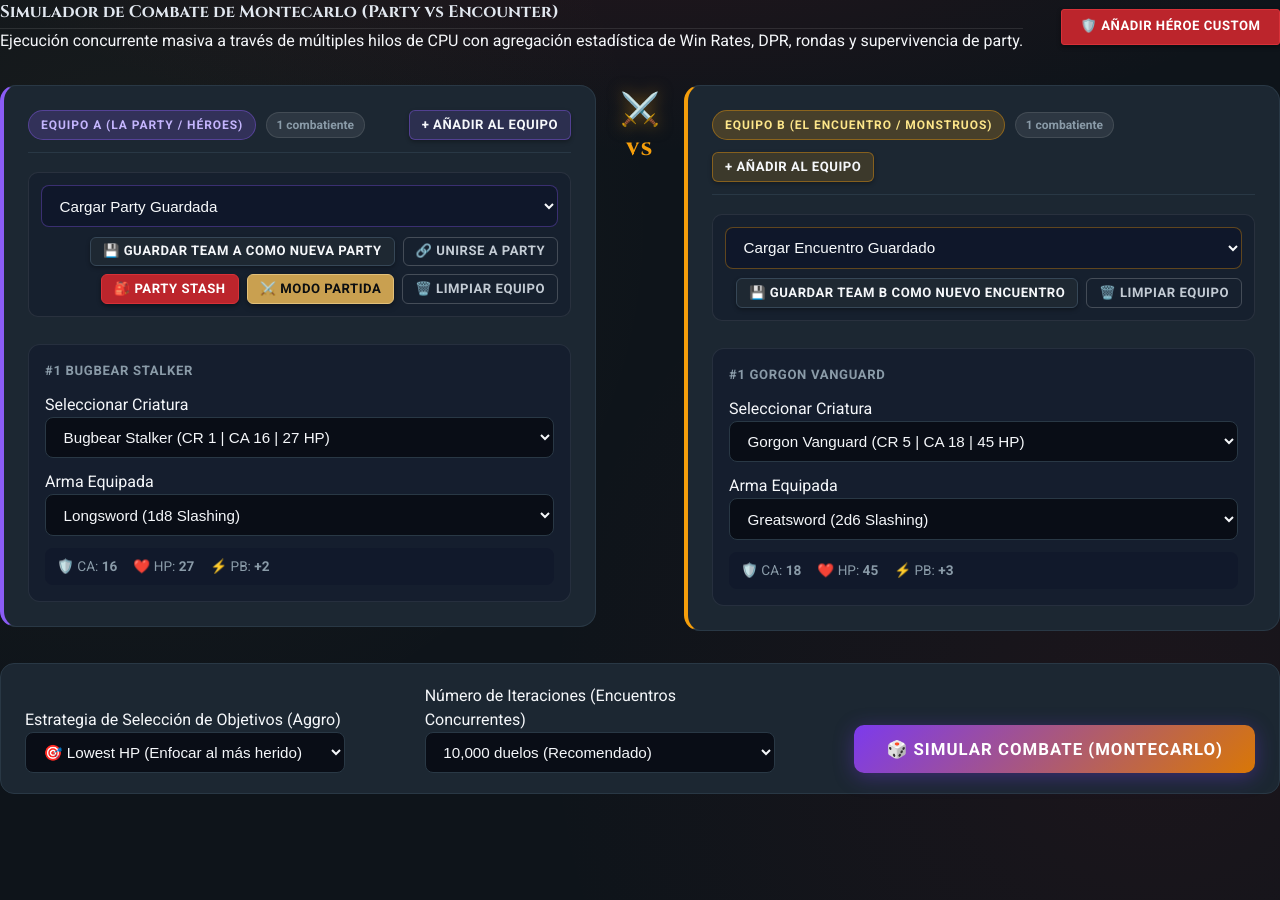
Scenario: CombatSimulatorView Component Suite (Party vs Encounter) › opens save party modal and creates a party with current Team A members
The image size is (1280, 900).
Click the button with id "save-party-btn".
click(242, 251)  # box [90,236,395,266]
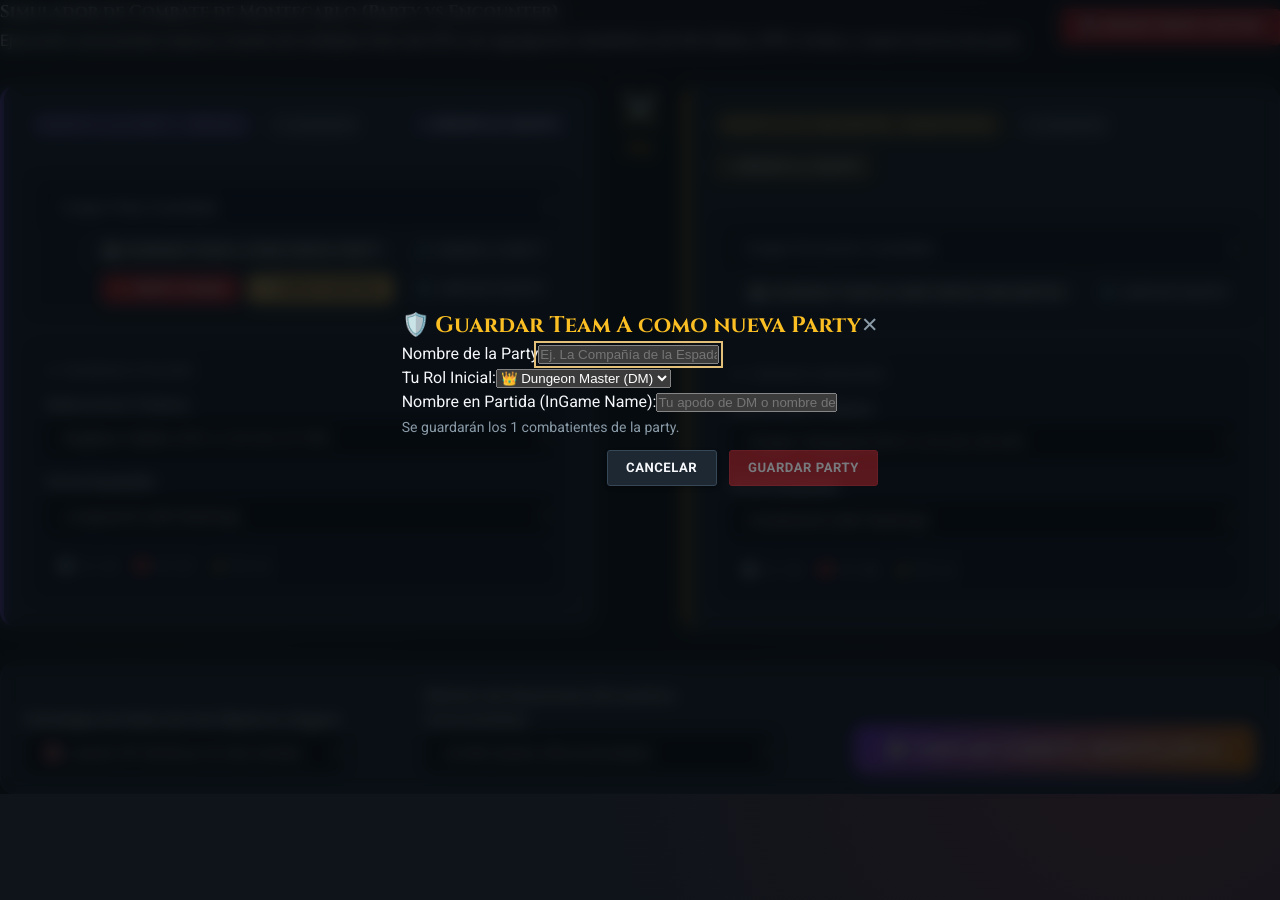
Expected: the dialog with id "save-party-modal" is shown
Type "Nuevos Conquistadores" into the field labelled "Nombre de la Party".
click(629, 355); type("Nuevos Conquistadores")  # box [538,345,719,364]
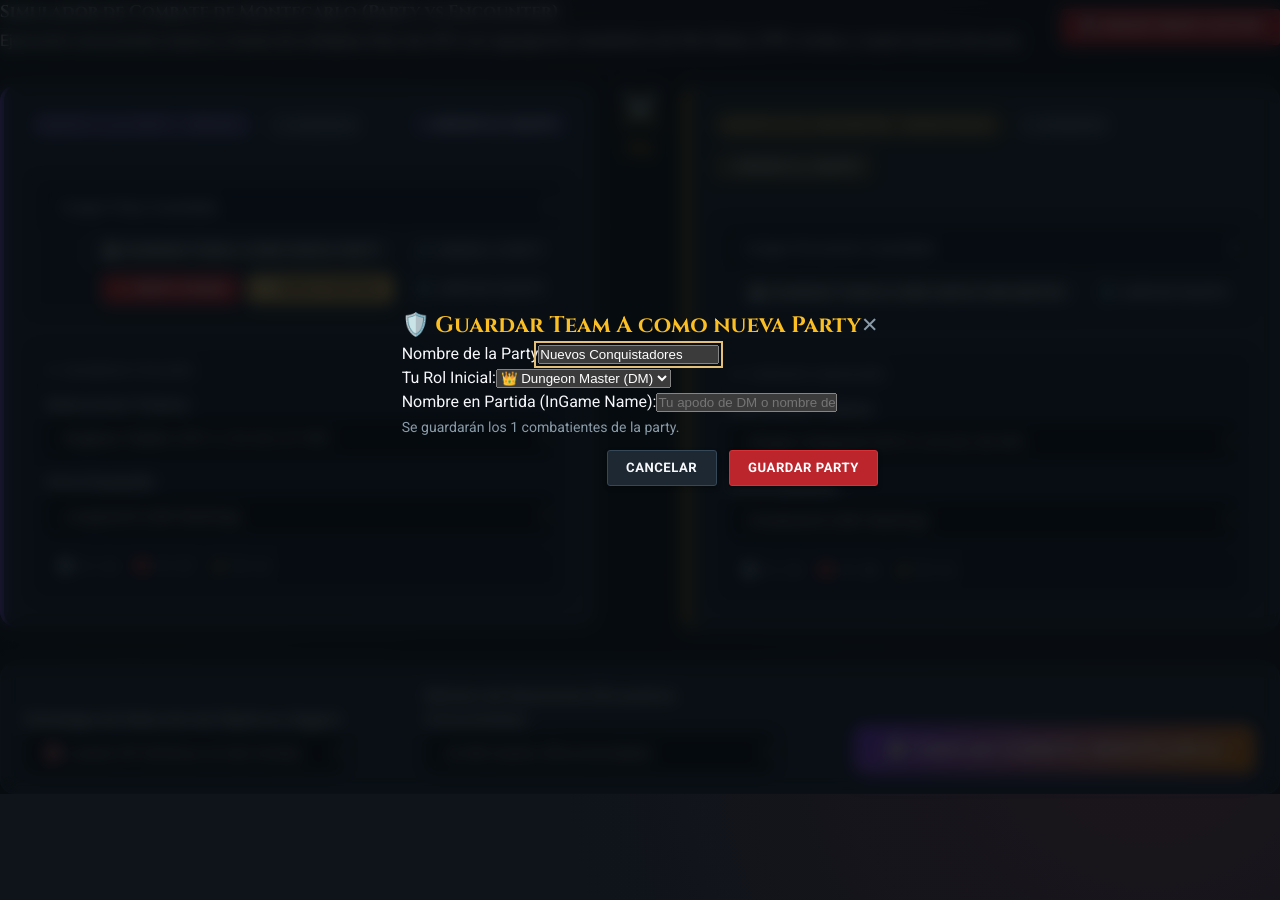
Click the button with id "confirm-save-party-btn".
click(804, 468)  # box [729,450,878,486]
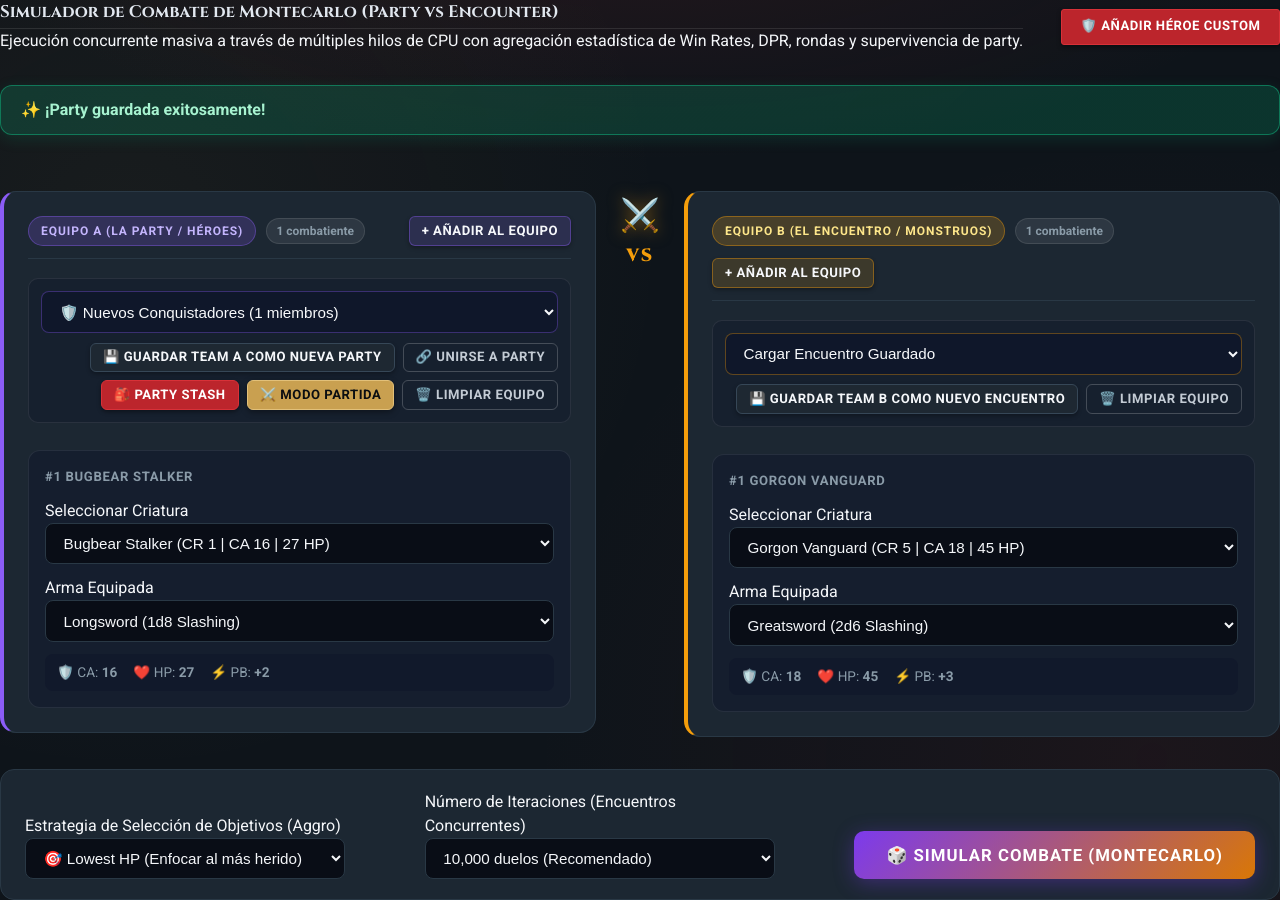
Expected: the dialog with id "save-party-modal" is gone
Expected: the message "✨ ¡Party guardada exitosamente!" is shown, [0,85,1279,135]
